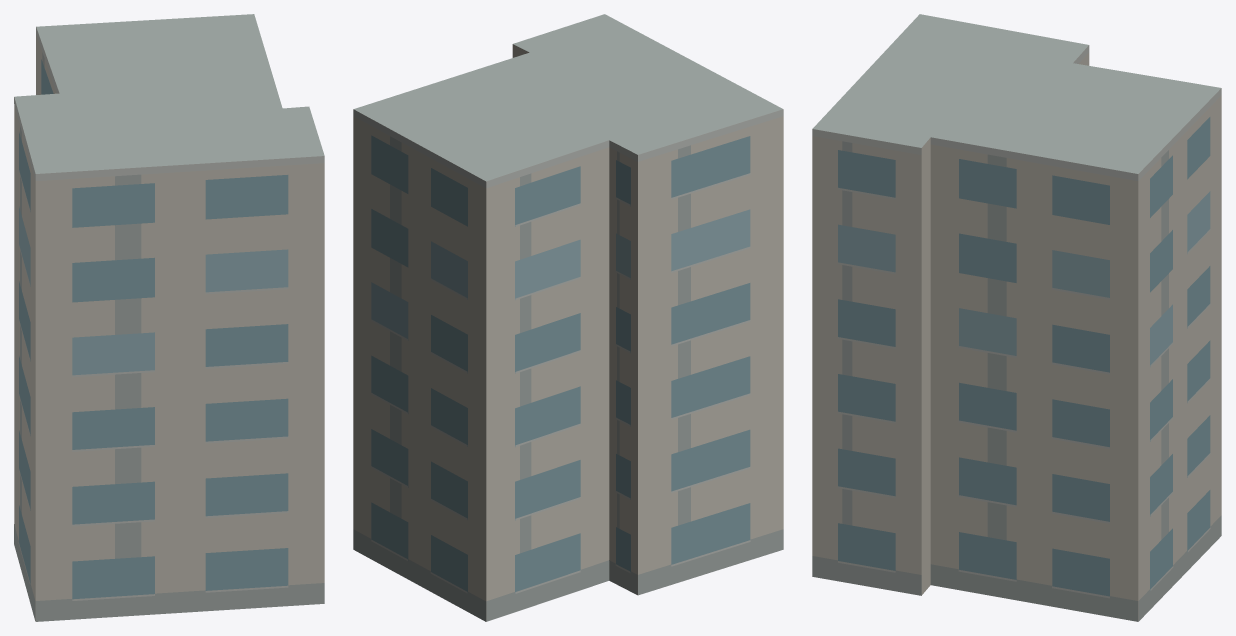
File: survey-upis-32806512.glb
The picture shows the model from 3 angles, left to right: view 1: azimuth 30°, elevation 25°; view 2: azimuth 150°, elevation 25°; view 3: azimuth 270°, elevation 25°; orthographic projection.
Visible parts, largest first — view 1: survey-upis-32806512.tmp; view 2: survey-upis-32806512.tmp; view 3: survey-upis-32806512.tmp.
Boxes of the visible parts, x1,y1,x2,y2 form: survey-upis-32806512.tmp: [14, 14, 324, 621]; survey-upis-32806512.tmp: [353, 14, 783, 621]; survey-upis-32806512.tmp: [812, 14, 1221, 621].
Bounding box in the file's own units: 11.74 × 15.3 × 12.68.
